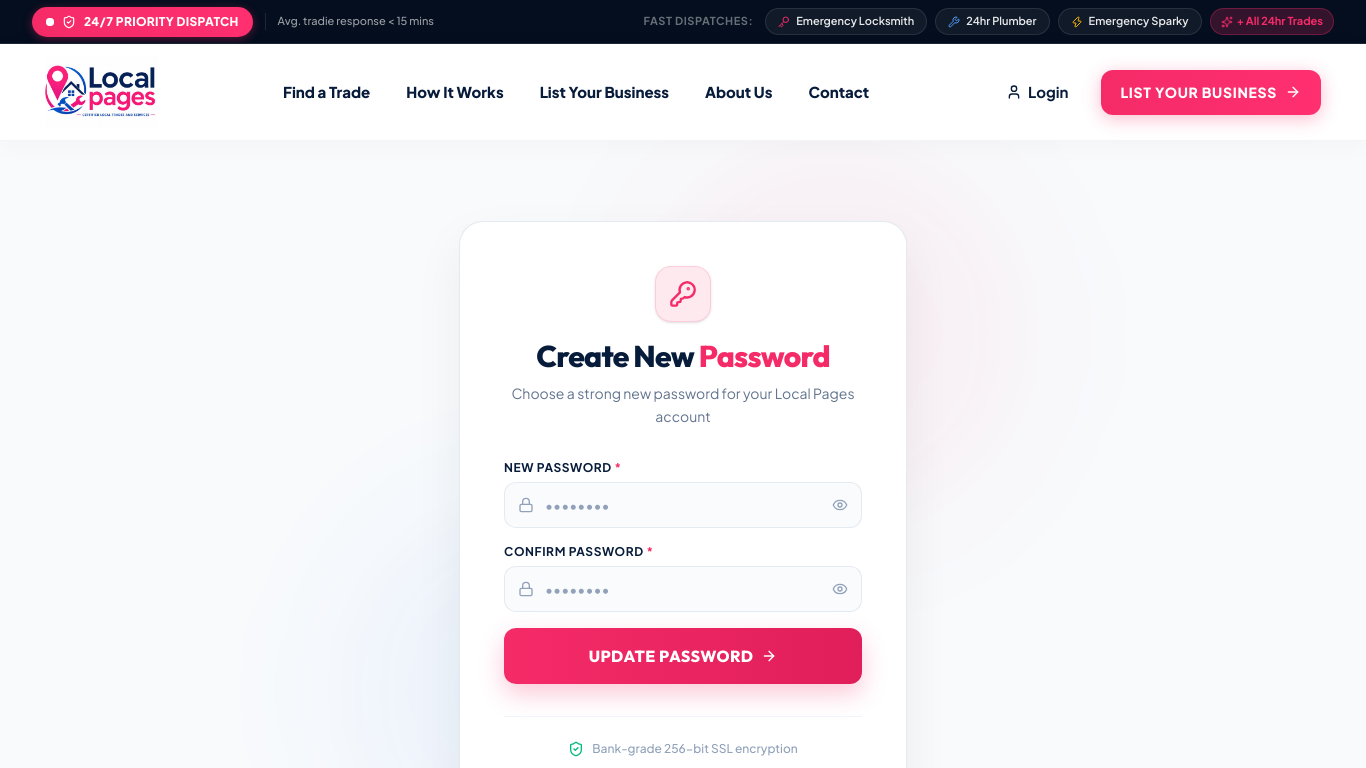
Test: Auth Workflows › Password › reset password success
The width and height of the screenshot is (1366, 768).
Expected: the button "UPDATE PASSWORD" is enabled, [504,628,862,684]
Type "newpass" into the password field labelled "New Password *".
click(683, 504); type("newpass")  # box [504,482,862,528]
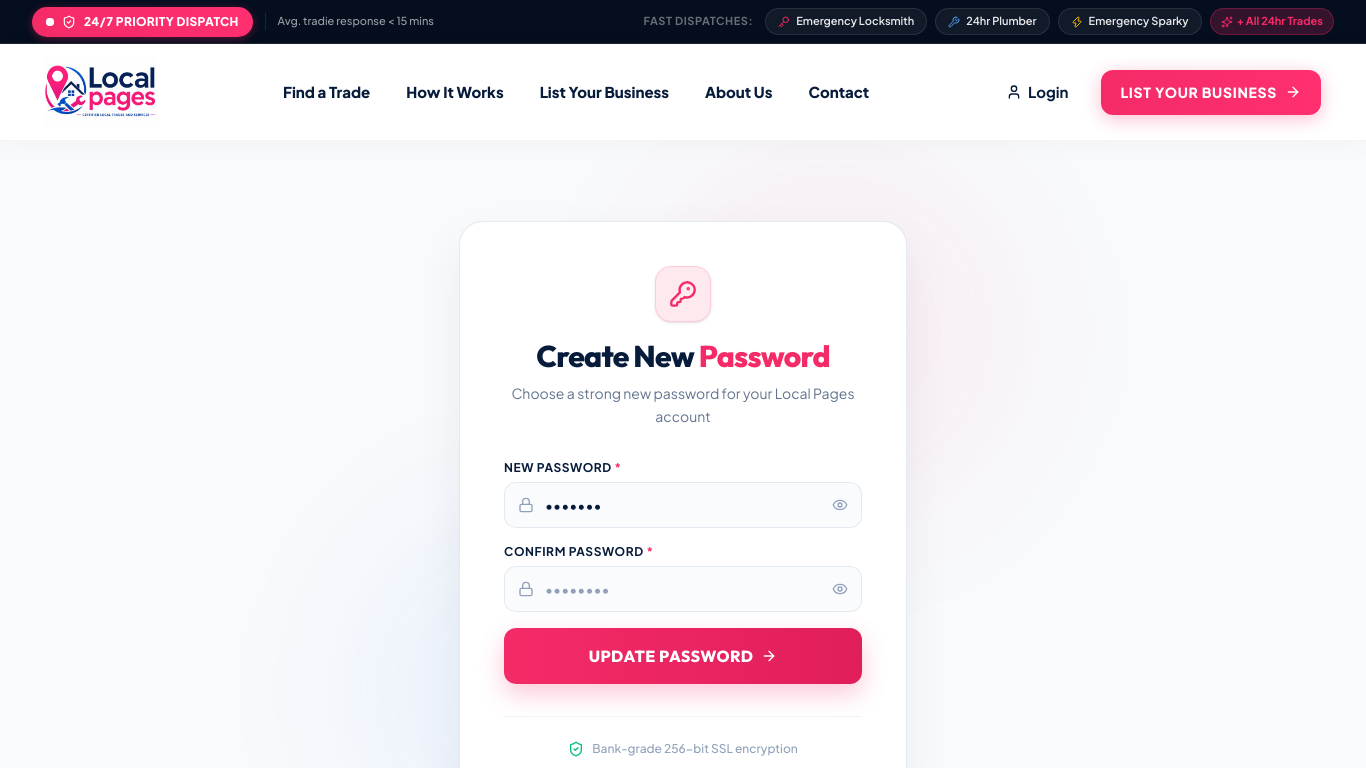
Type "newpass" into the password field labelled "Confirm Password *".
click(683, 588); type("newpass")  # box [504,566,862,612]
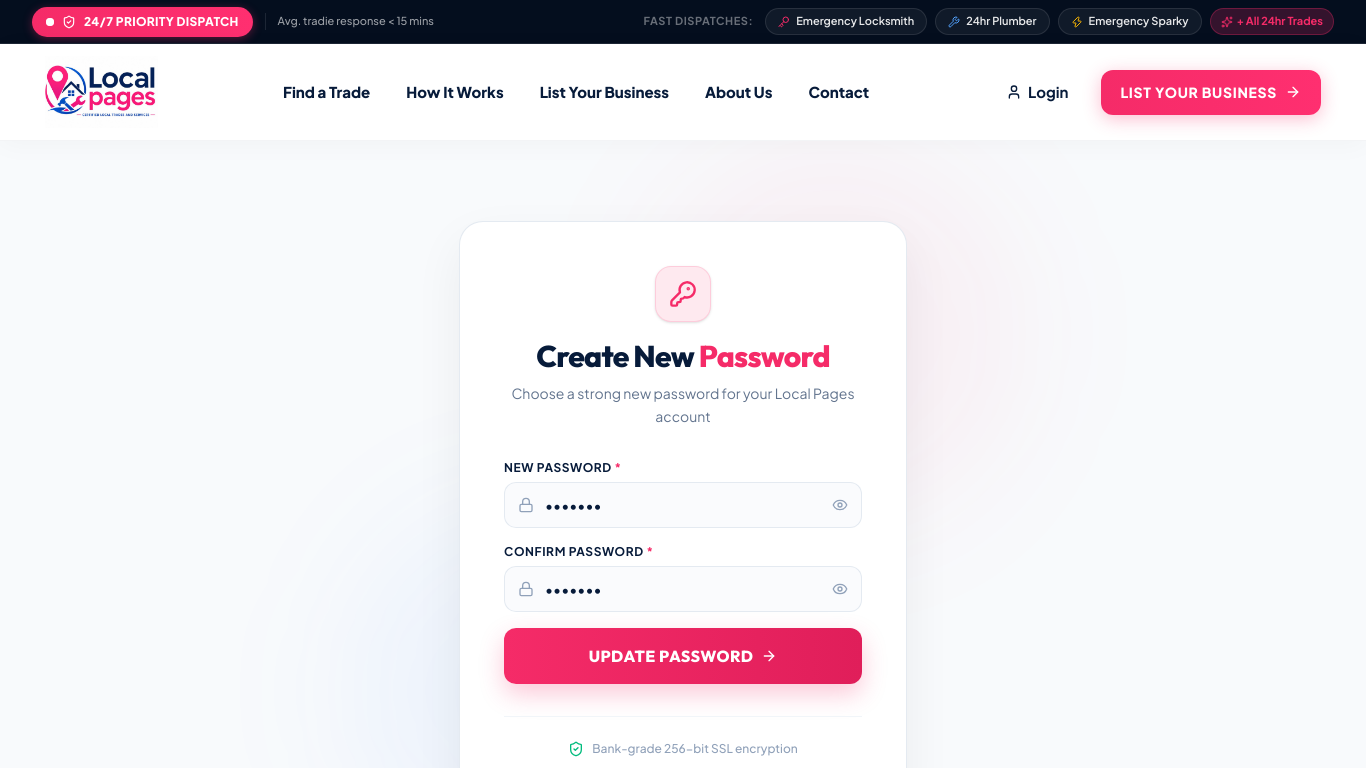
Click the button "UPDATE PASSWORD".
click(683, 656)  # box [504,628,862,684]
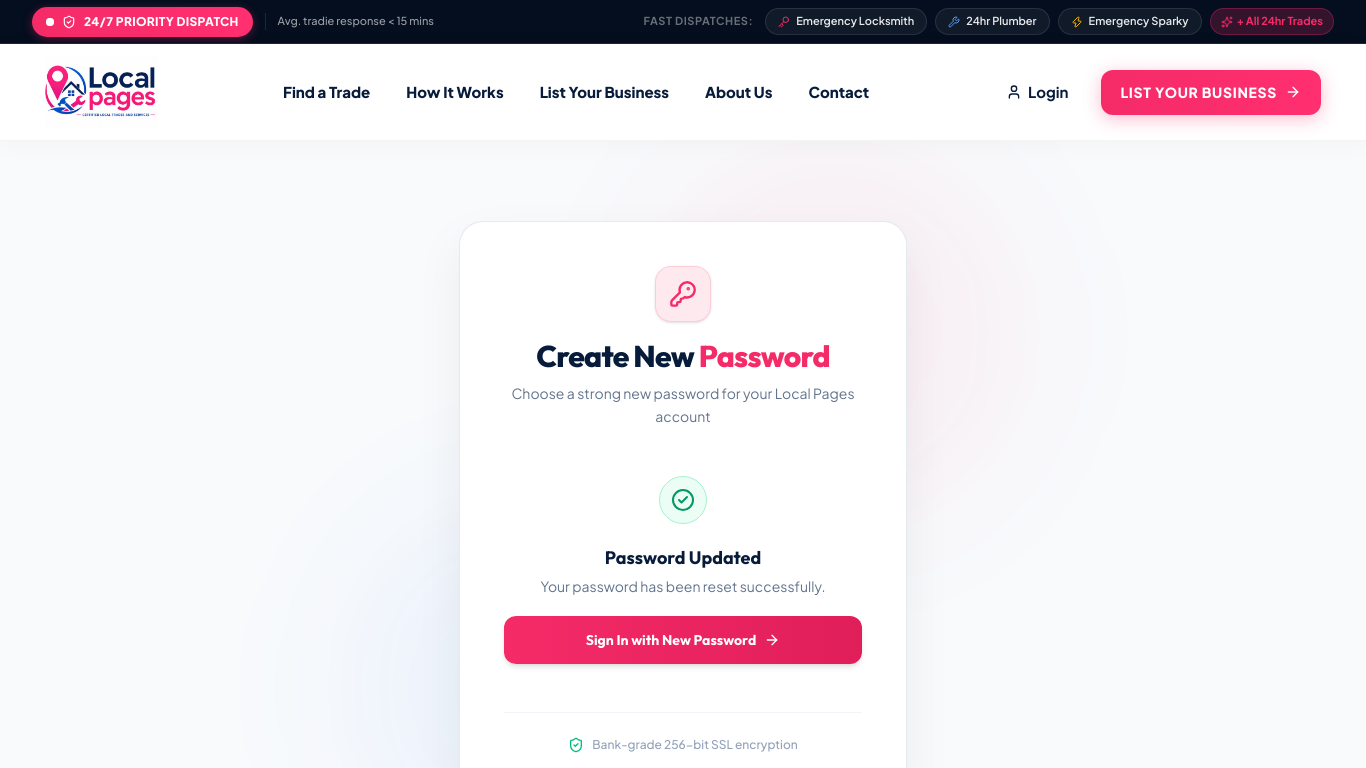
Now the text "Your password has been reset successfully." is shown, box [541,576,825,594]
